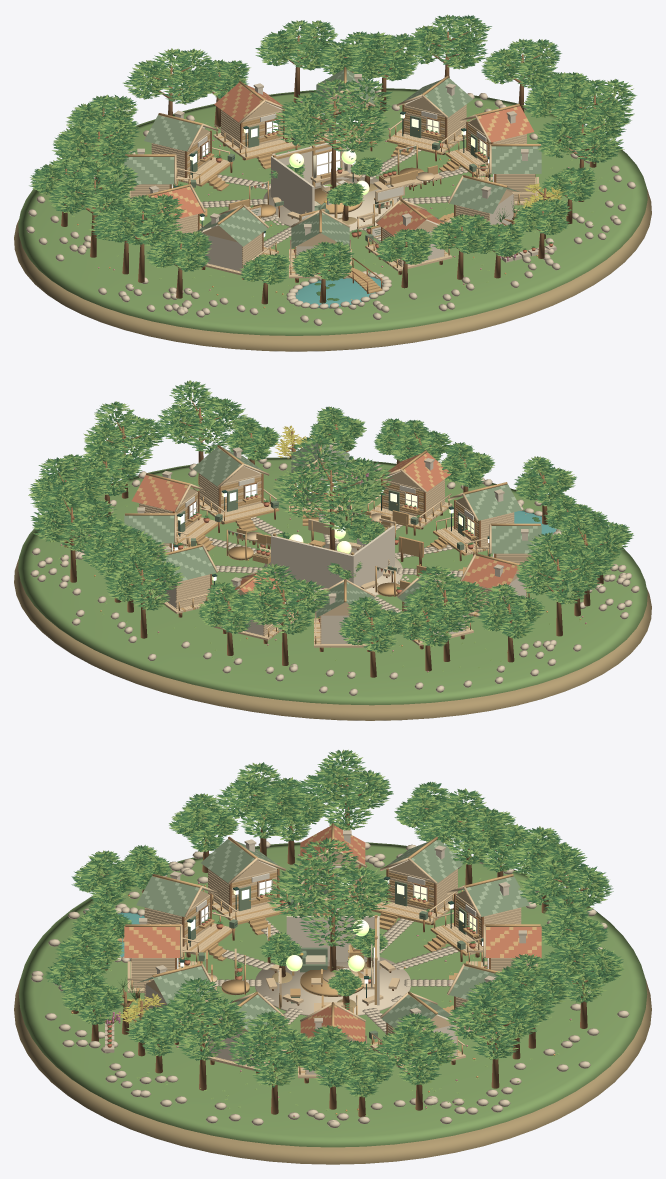
File: opening-day.glb
3 views of the same model, one above another, from view 1: azimuth 30°, elevation 25°; view 2: azimuth 150°, elevation 25°; view 3: azimuth 270°, elevation 25° (orthographic). The views are drawn at different scales.
Visible parts, largest first — view 1: Landscape grass, Landscape leaflight, Landscape leaf, Landscape leafdark, Landscape earth, Landscape stone, Landscape bark, TogetherTree leaf, TogetherTree leaflight, TogetherTree leafdark, Interior cream, Cabin_03 lightwood (+31 smaller); view 2: Landscape grass, Landscape leaflight, Landscape leaf, Landscape leafdark, Landscape earth, Landscape stone, Interior cream, Landscape bark, TogetherTree leaf, TogetherTree leaflight, TogetherTree leafdark, Cabin_11 lightwood (+22 smaller); view 3: Landscape grass, Landscape leaflight, Landscape leaf, Landscape leafdark, Landscape earth, Landscape stone, TogetherTree leaf, TogetherTree leafdark, TogetherTree leaflight, Landscape bark, Commons stone, Interior cream (+25 smaller).
Part boxes in pixels (x1,y1,x2,y2): Landscape grass: [18, 88, 647, 335]; Landscape leaflight: [30, 14, 635, 309]; Landscape leaf: [29, 15, 636, 284]; Landscape leafdark: [32, 15, 634, 284]; Landscape earth: [14, 189, 651, 351]; Landscape stone: [26, 90, 635, 325]; Landscape bark: [51, 31, 614, 304]; TogetherTree leaf: [272, 78, 392, 152]; TogetherTree leaflight: [272, 78, 389, 151]; TogetherTree leafdark: [271, 79, 392, 152]; Interior cream: [271, 138, 351, 214]; Cabin_03 lightwood: [213, 99, 297, 158]; Landscape grass: [18, 457, 647, 705]; Landscape leaflight: [28, 380, 633, 675]; Landscape leaf: [29, 381, 632, 653]; Landscape leafdark: [30, 381, 633, 652]; Landscape earth: [14, 558, 651, 720]; Landscape stone: [30, 457, 639, 695]; Interior cream: [271, 525, 394, 589]; Landscape bark: [52, 398, 607, 677]; TogetherTree leaf: [274, 435, 393, 529]; TogetherTree leaflight: [273, 434, 390, 531]; TogetherTree leafdark: [273, 435, 392, 531]; Cabin_11 lightwood: [193, 463, 277, 522]; Landscape grass: [18, 842, 647, 1147]; Landscape leaflight: [48, 749, 623, 1117]; Landscape leaf: [44, 750, 623, 1097]; Landscape leafdark: [46, 750, 623, 1095]; Landscape earth: [14, 979, 651, 1164]; Landscape stone: [31, 841, 629, 1127]; TogetherTree leaf: [265, 839, 391, 946]; TogetherTree leafdark: [268, 837, 393, 946]; TogetherTree leaflight: [265, 837, 391, 945]; Landscape bark: [70, 778, 601, 1117]; Commons stone: [255, 957, 410, 1015]; Interior cream: [286, 916, 379, 1005].
Bounding box in the file's own units: 46 × 12.68 × 40.
